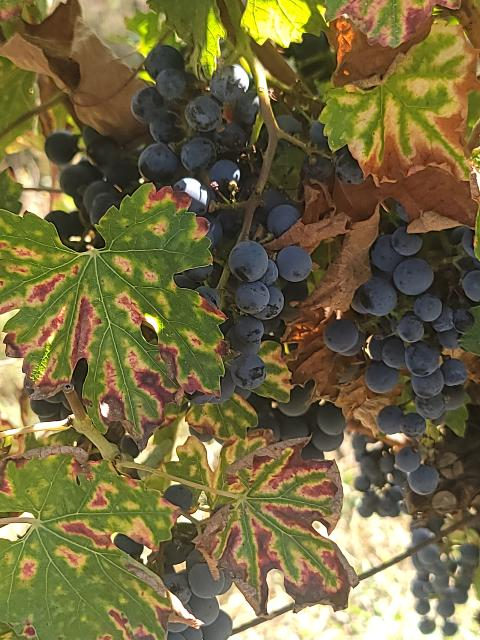grapes: (45, 44, 268, 265), (339, 201, 480, 436), (220, 240, 301, 355), (411, 542, 479, 640)
